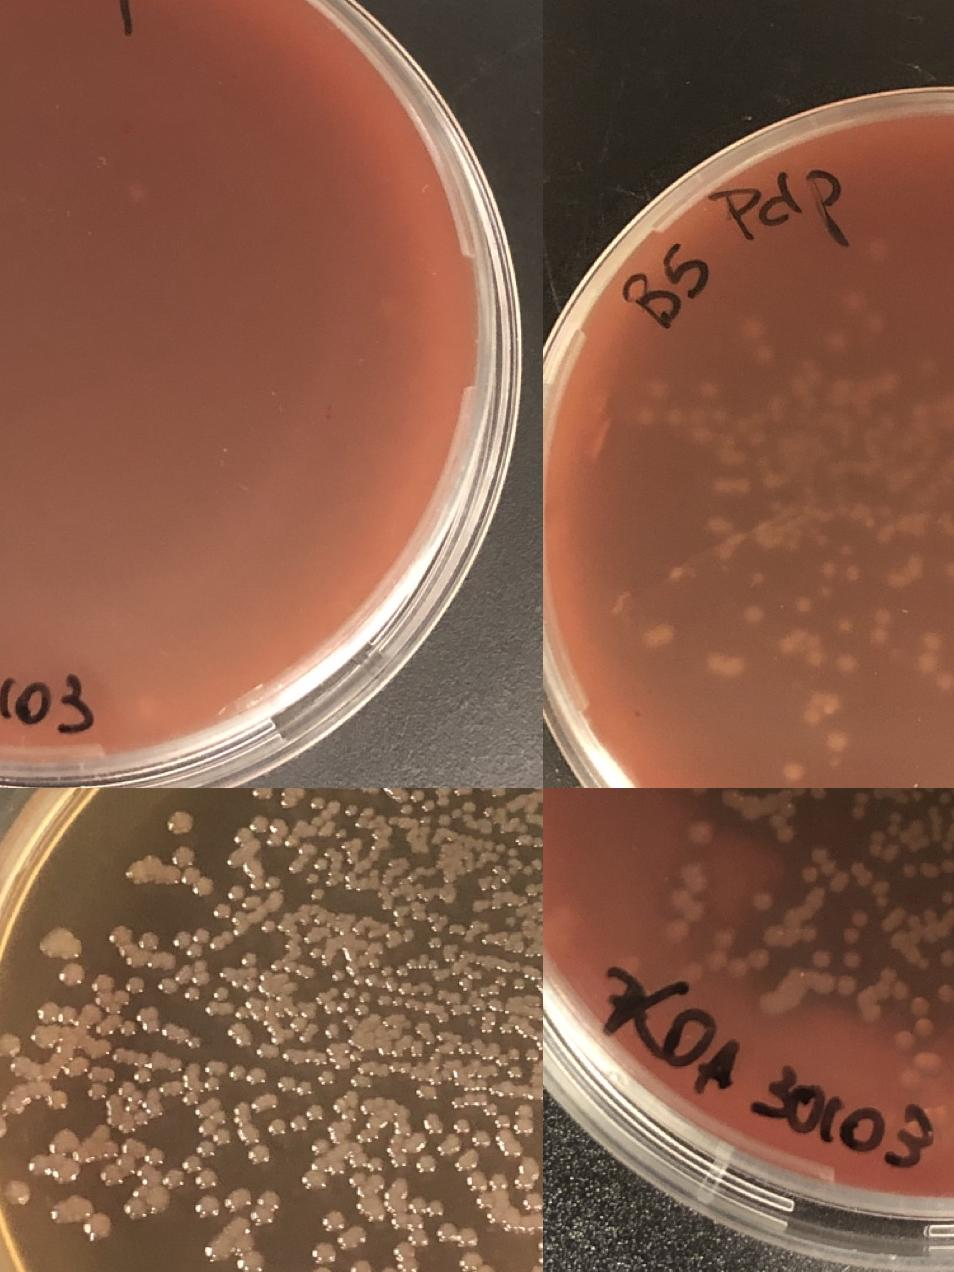pdpiscicida: (891, 562, 922, 586), (811, 691, 841, 715), (779, 628, 806, 653), (717, 478, 750, 495), (806, 636, 823, 666), (804, 708, 820, 725), (874, 607, 890, 624), (795, 595, 811, 612), (843, 564, 859, 581), (634, 409, 650, 426), (664, 408, 680, 425), (755, 345, 771, 362), (830, 334, 846, 351), (845, 292, 861, 309), (869, 237, 885, 254), (946, 561, 954, 594), (870, 628, 886, 644), (787, 764, 802, 781), (939, 674, 954, 691), (708, 653, 724, 670), (837, 618, 852, 635), (669, 567, 684, 584), (746, 322, 761, 339), (129, 185, 145, 200), (831, 734, 847, 749), (726, 659, 742, 674), (921, 656, 937, 671), (643, 632, 658, 648), (819, 584, 835, 599), (749, 572, 765, 587), (819, 560, 835, 575), (841, 656, 856, 671), (745, 607, 760, 622), (840, 543, 855, 558), (711, 406, 727, 421), (700, 383, 715, 398), (924, 636, 940, 650), (659, 626, 675, 640), (868, 313, 884, 328)
sinniae: (95, 1138, 221, 1194), (333, 975, 392, 1019), (482, 1102, 538, 1142), (454, 1225, 497, 1272), (102, 922, 162, 951), (172, 927, 226, 960), (494, 1047, 540, 1080), (306, 1240, 353, 1272), (452, 1120, 496, 1153), (248, 1188, 283, 1229), (84, 1212, 118, 1247), (265, 1115, 310, 1138), (161, 809, 196, 835), (53, 962, 87, 988), (276, 1075, 316, 1097), (203, 1236, 233, 1264), (228, 1065, 267, 1087), (168, 844, 197, 871), (389, 1238, 417, 1265), (423, 1197, 451, 1224), (3, 1180, 31, 1207), (413, 1152, 441, 1179), (245, 1143, 273, 1170), (413, 1083, 441, 1110), (153, 974, 181, 1001), (190, 875, 219, 901), (427, 912, 445, 953), (319, 1208, 347, 1234), (193, 1196, 221, 1222), (122, 1196, 150, 1222), (54, 1159, 82, 1185), (422, 1112, 450, 1138), (43, 1088, 71, 1114), (33, 998, 61, 1024), (122, 971, 150, 997), (89, 971, 117, 997), (265, 832, 301, 852), (0, 1032, 24, 1059), (303, 874, 327, 901), (409, 789, 437, 812), (235, 1251, 263, 1272), (454, 788, 476, 813), (368, 958, 394, 978), (347, 1255, 375, 1272), (523, 1192, 543, 1214), (131, 1068, 153, 1088), (116, 1020, 138, 1040), (396, 958, 418, 978), (249, 814, 271, 834), (210, 902, 234, 920), (85, 1083, 107, 1102), (317, 1069, 339, 1088), (486, 1174, 508, 1192), (367, 1156, 389, 1174), (351, 1074, 373, 1092), (256, 1043, 278, 1061), (249, 788, 277, 802), (475, 788, 507, 799), (323, 1024, 341, 1042), (212, 985, 230, 1003), (182, 985, 200, 1003), (238, 950, 257, 969), (401, 927, 419, 945), (393, 903, 411, 921), (474, 876, 492, 894), (286, 858, 304, 876), (291, 1016, 308, 1034), (228, 884, 246, 902), (536, 1230, 543, 1272), (251, 1098, 267, 1115), (457, 978, 473, 995), (494, 974, 510, 991), (259, 920, 277, 934), (264, 876, 282, 890), (312, 857, 330, 871), (332, 826, 350, 840), (398, 803, 416, 817), (310, 797, 328, 811), (457, 1042, 473, 1057), (478, 1021, 494, 1036), (526, 857, 543, 871), (343, 803, 360, 817), (331, 968, 345, 982), (427, 959, 441, 973), (308, 945, 322, 960), (525, 883, 539, 897), (316, 992, 329, 1006), (530, 835, 543, 849), (451, 1005, 462, 1019), (410, 984, 420, 998), (513, 978, 523, 992)
vangil: (869, 810, 903, 861), (769, 804, 797, 842), (812, 847, 835, 875), (851, 790, 872, 819), (851, 861, 873, 888), (828, 870, 851, 892), (686, 962, 704, 980), (620, 955, 638, 973), (708, 951, 727, 969), (753, 891, 770, 909), (751, 950, 768, 968), (843, 927, 859, 944), (934, 920, 950, 937), (881, 916, 897, 933), (905, 911, 921, 928), (801, 924, 816, 941), (802, 866, 817, 883), (852, 910, 867, 925), (813, 950, 829, 965), (941, 948, 954, 965), (939, 985, 953, 999), (918, 957, 931, 971), (941, 892, 954, 906), (902, 863, 915, 877), (941, 858, 954, 872), (811, 788, 827, 799), (845, 952, 858, 966), (692, 788, 708, 792)
